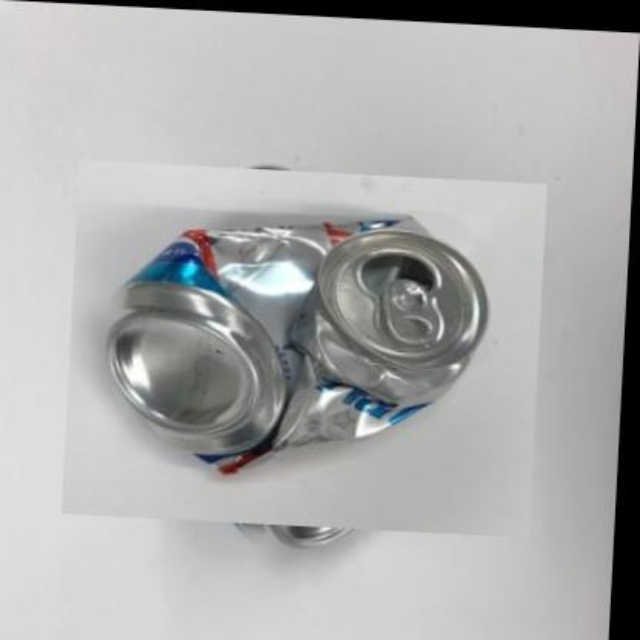trash: (108, 215, 486, 471)
